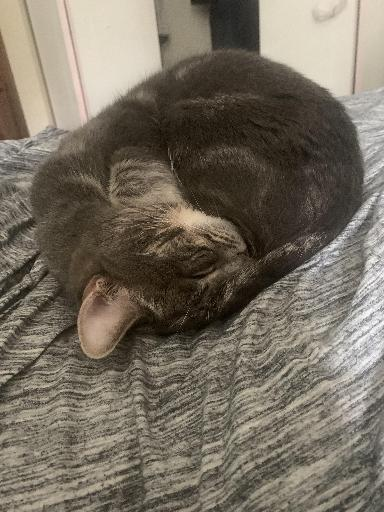cat_sleeping: (30, 49, 364, 358)
